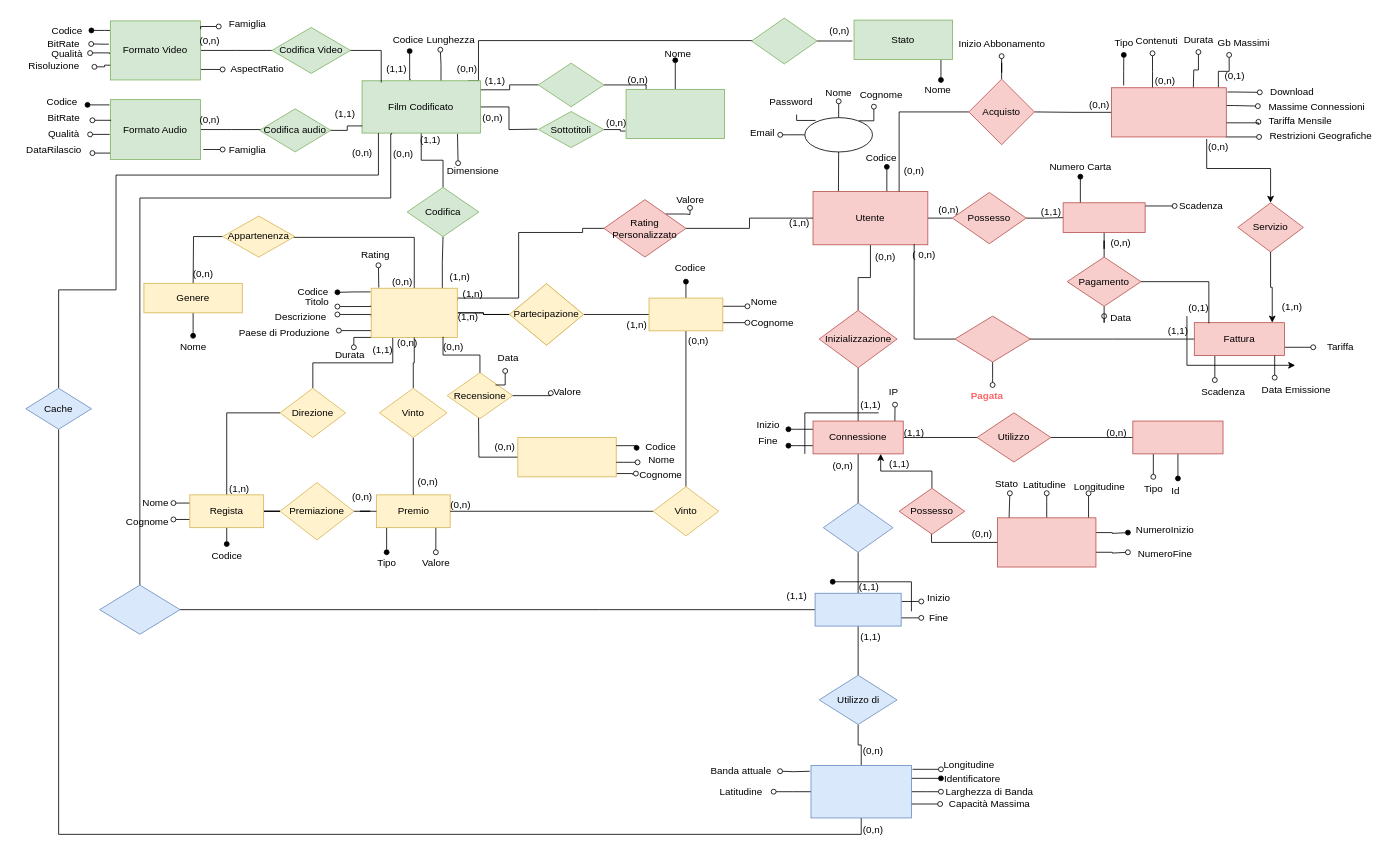
Some shapes in this 1396 by 856 pixel diagram are drawn without their labels. The box of each missing label's shape, as (x1, y1, x2, y2) in pixels:
Abbonamento: (1111, 87, 1226, 137)
Attori: (648, 297, 723, 331)
Audio: (538, 62, 604, 107)
Critico: (517, 437, 616, 477)
Dati Fatturazione: (1062, 202, 1145, 232)
Di: (99, 584, 180, 634)
Dispositivo: (1132, 420, 1223, 454)
Film: (370, 287, 457, 337)
Informazioni Personali: (804, 117, 872, 152)
Lingua: (625, 89, 724, 139)
Posizione: (997, 517, 1096, 567)
Richiesta: (822, 502, 893, 552)
Server: (810, 765, 911, 818)
UtenteFattura: (954, 315, 1030, 362)
Vietato: (751, 17, 817, 64)
Visualizzazione: (814, 592, 901, 626)
